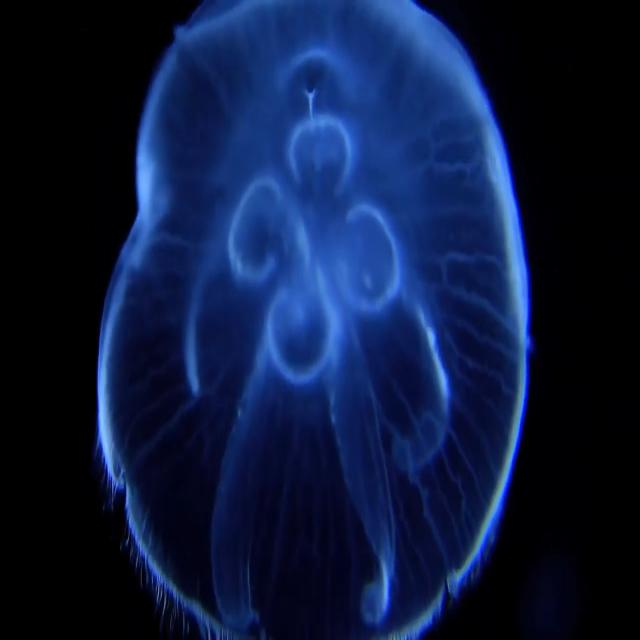Moon-jellyfish: (99, 4, 529, 639)
